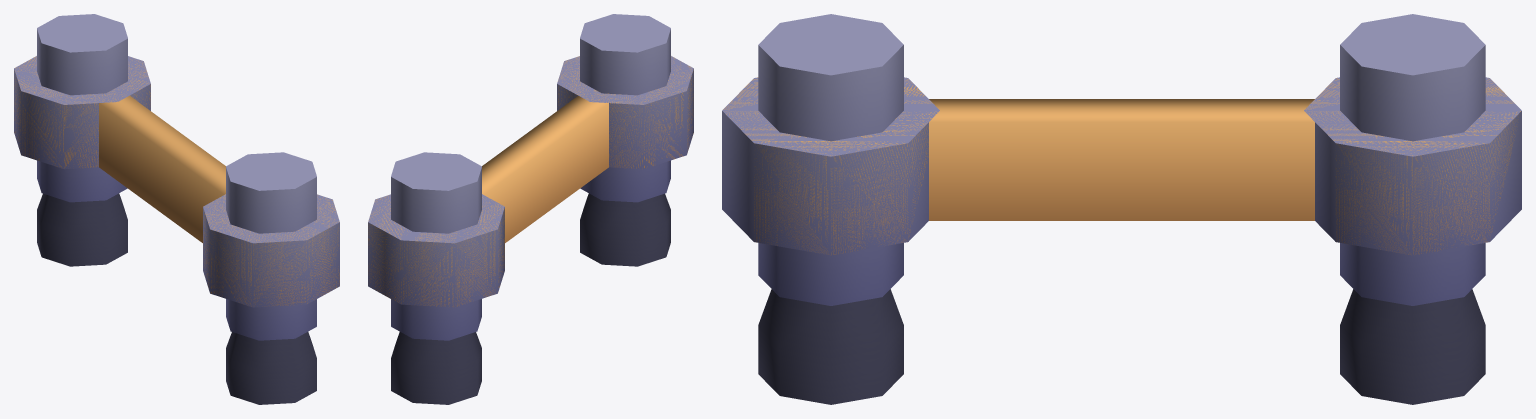
Rendered from kenney-factory-structure-yellow-short.glb.
3 renders of one model, left to right at view 1: azimuth 30°, elevation 25°; view 2: azimuth 150°, elevation 25°; view 3: azimuth 270°, elevation 25°, orthographic. The views are drawn at different scales.
Parts seen in each view (by area): view 1: structure-yellow-short; view 2: structure-yellow-short; view 3: structure-yellow-short.
Part boxes in pixels (left/top/right/bottom): structure-yellow-short: left=14, top=14, right=339, bottom=404; structure-yellow-short: left=368, top=14, right=693, bottom=404; structure-yellow-short: left=722, top=14, right=1521, bottom=404.
Size of the model in its own units: 0.45 by 0.75 by 1.65.
Materials: 1 (1 with a texture image).
